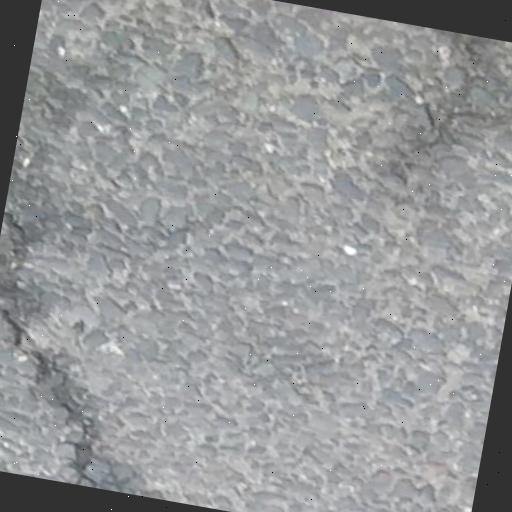spalling: (0, 300, 99, 472)
